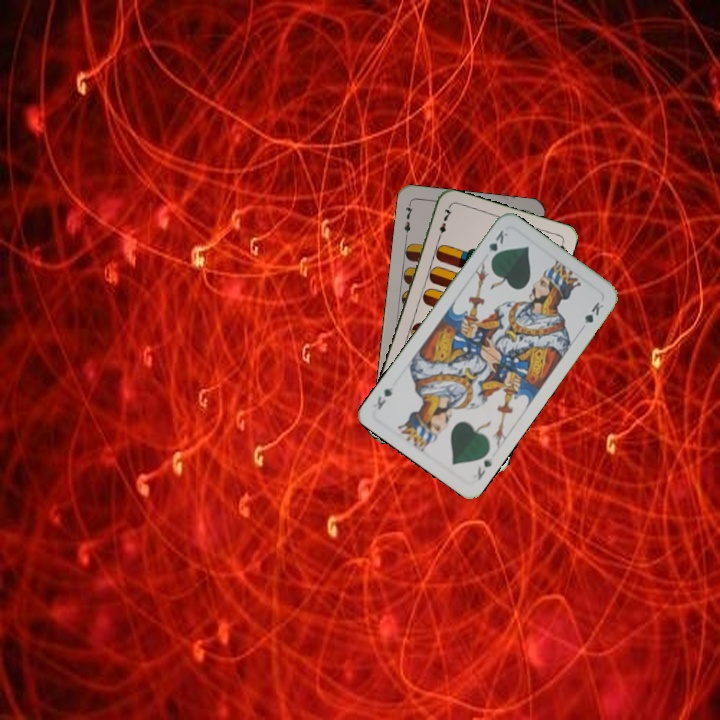E7: (434, 203, 455, 243), (400, 199, 415, 240)
GK: (484, 226, 511, 264), (473, 456, 495, 483)
